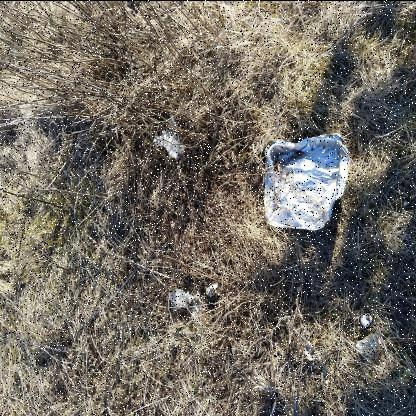metal: (264, 130, 349, 230)
